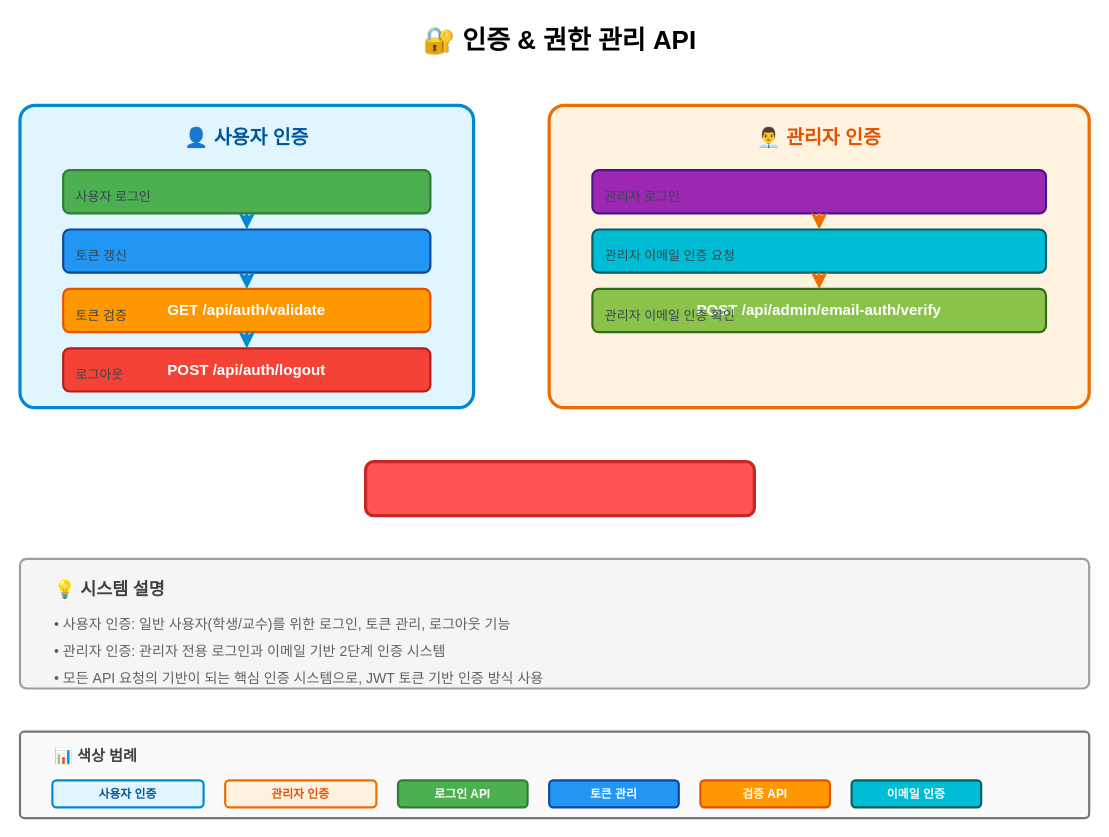
The diagram is 1109 pixels wide and 837 high, and some of its shapes have lost their labels. The box of each missing label's shape, as (x1, y1, x2, y2) in pixels:
POST /api/admin/email-auth/request: (591, 228, 1047, 273)
POST /api/admin/login: (591, 168, 1047, 214)
POST /api/auth/login: (62, 168, 431, 214)
POST /api/auth/refresh: (62, 228, 431, 273)
🔥 최우선 (Core Business): (363, 460, 755, 517)
